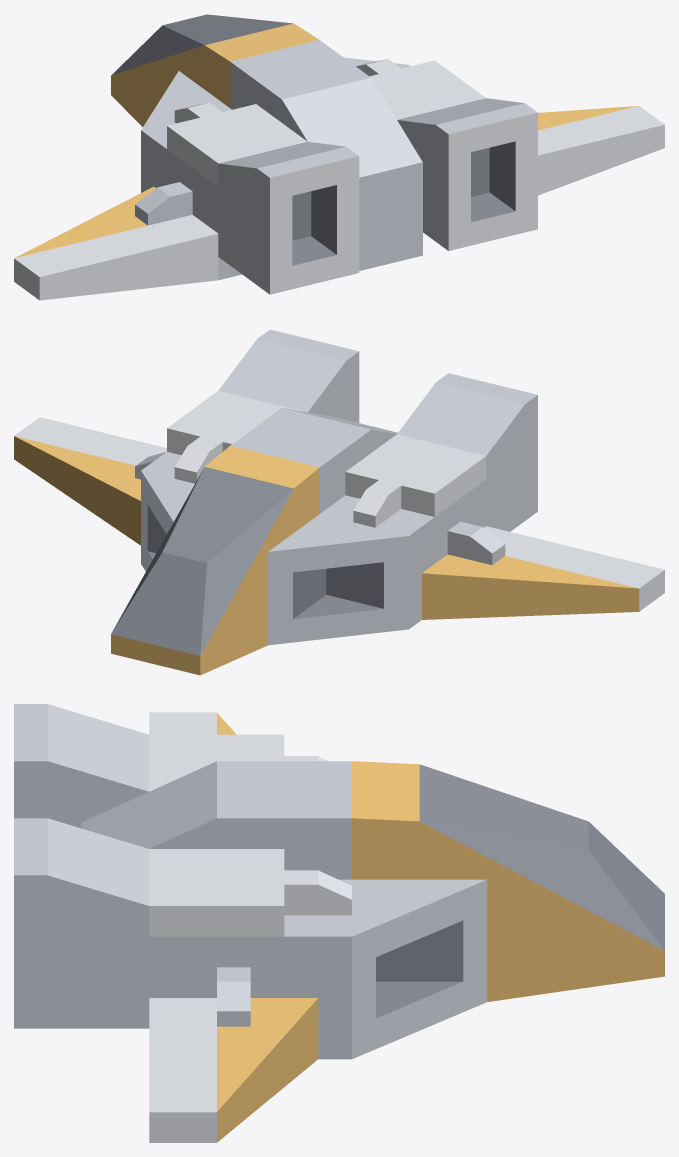
The model's file is craft_speederC.glb.
3 renders of one model, top to bottom at view 1: azimuth 30°, elevation 25°; view 2: azimuth 150°, elevation 25°; view 3: azimuth 270°, elevation 25°, orthographic. The views are drawn at different scales.
Parts seen in each view (by area): view 1: craft_speederC; view 2: craft_speederC; view 3: craft_speederC.
Part boxes in pixels (x1,y1,x2,y2): craft_speederC: (14,14,664,300); craft_speederC: (14,329,664,675); craft_speederC: (14,704,664,1142).
Size of the model in its own units: 2.8 by 0.6 by 1.93.
Materials: 1 (1 with a texture image).
